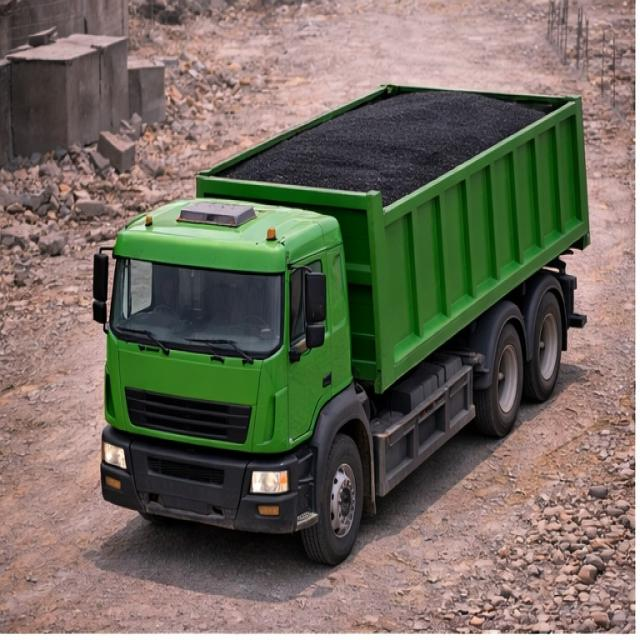Box: (199, 82, 587, 205)
Truck: (91, 64, 601, 537)
